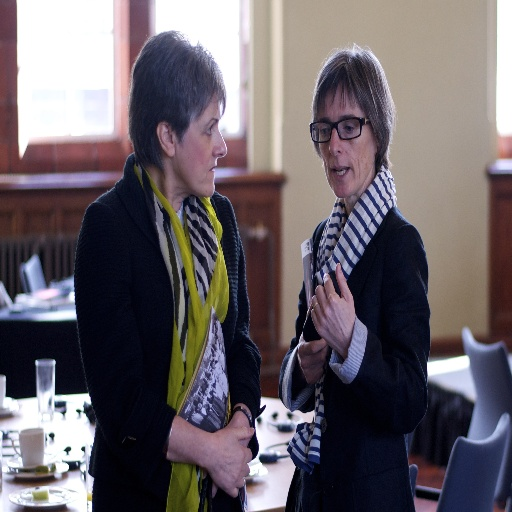hand: (308, 260, 357, 356), (200, 417, 252, 496), (296, 336, 330, 387)
